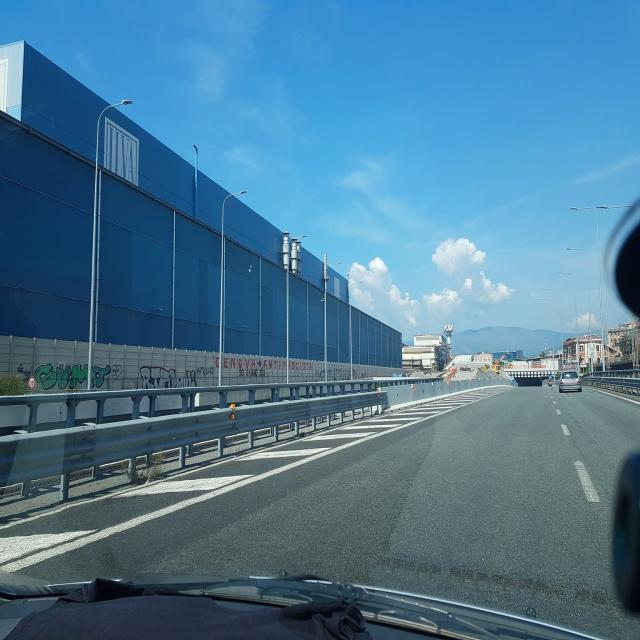car: (558, 369, 582, 394)
